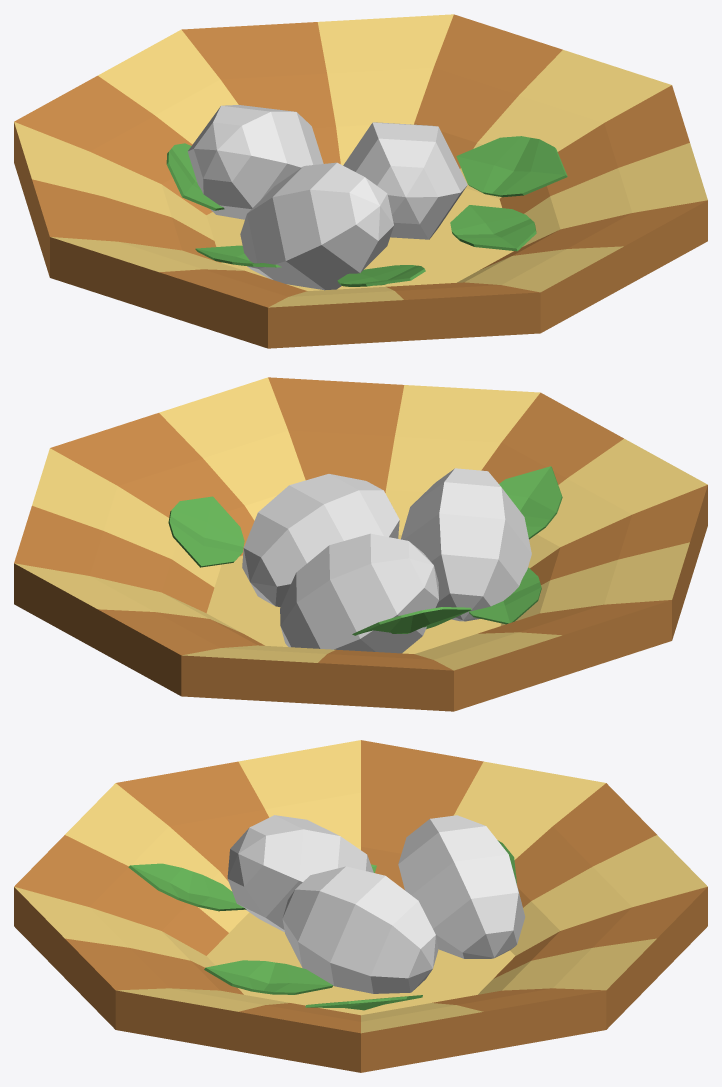
Rendered from Yumurta_2.fbx.
3 renders of one model, top to bottom at view 1: azimuth 30°, elevation 25°; view 2: azimuth 150°, elevation 25°; view 3: azimuth 270°, elevation 25°, orthographic. The views are drawn at different scales.
Parts seen in each view (by area): view 1: Cylinder; view 2: Cylinder; view 3: Cylinder.
Part boxes in pixels (x1,y1,x2,y2): Cylinder: (14,14,707,348); Cylinder: (14,377,707,711); Cylinder: (14,740,707,1072).
Bounding box in the file's own units: 176 × 33.62 × 176.
